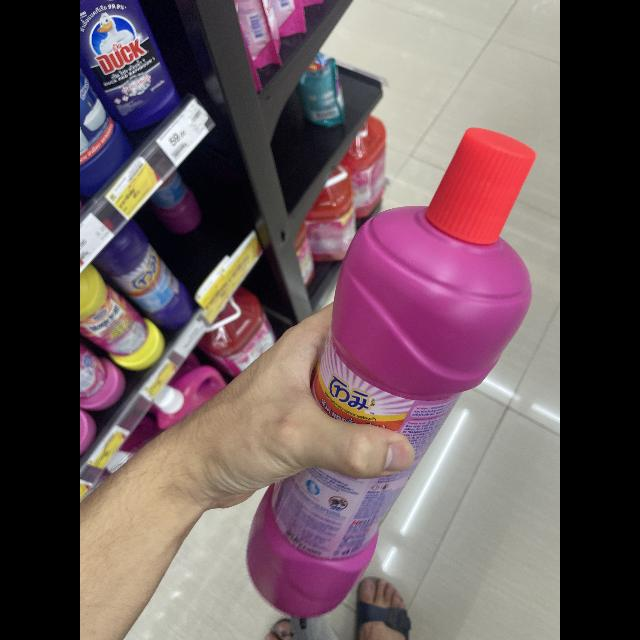chemical_plastic_bottle: (236, 120, 540, 618)
